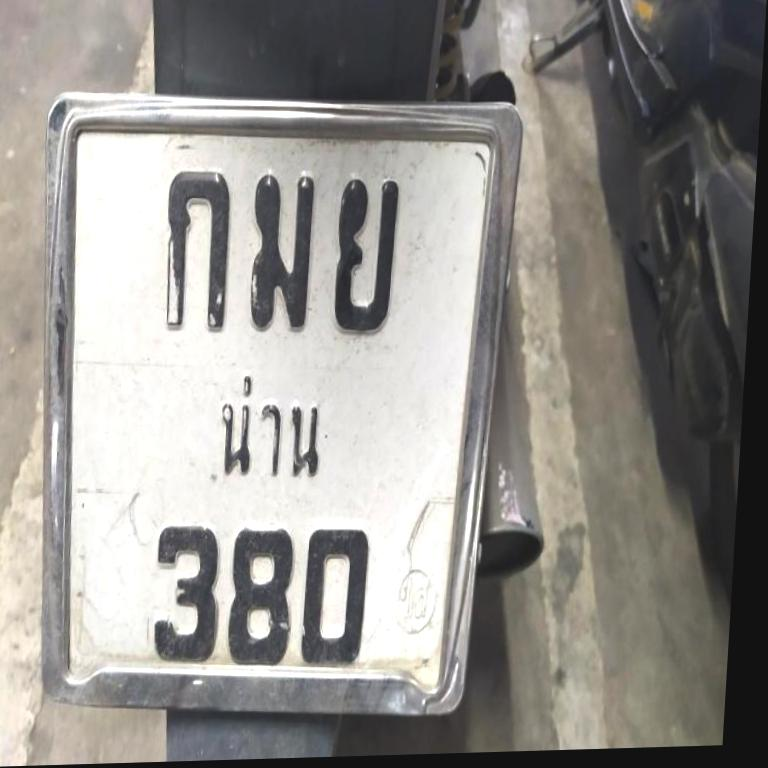license plate: (9, 73, 517, 729)
